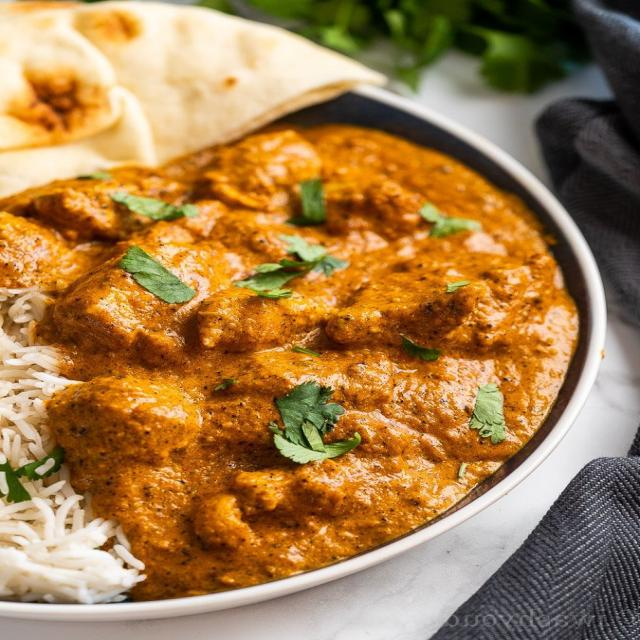Butter Chicken: (0, 129, 572, 615)
